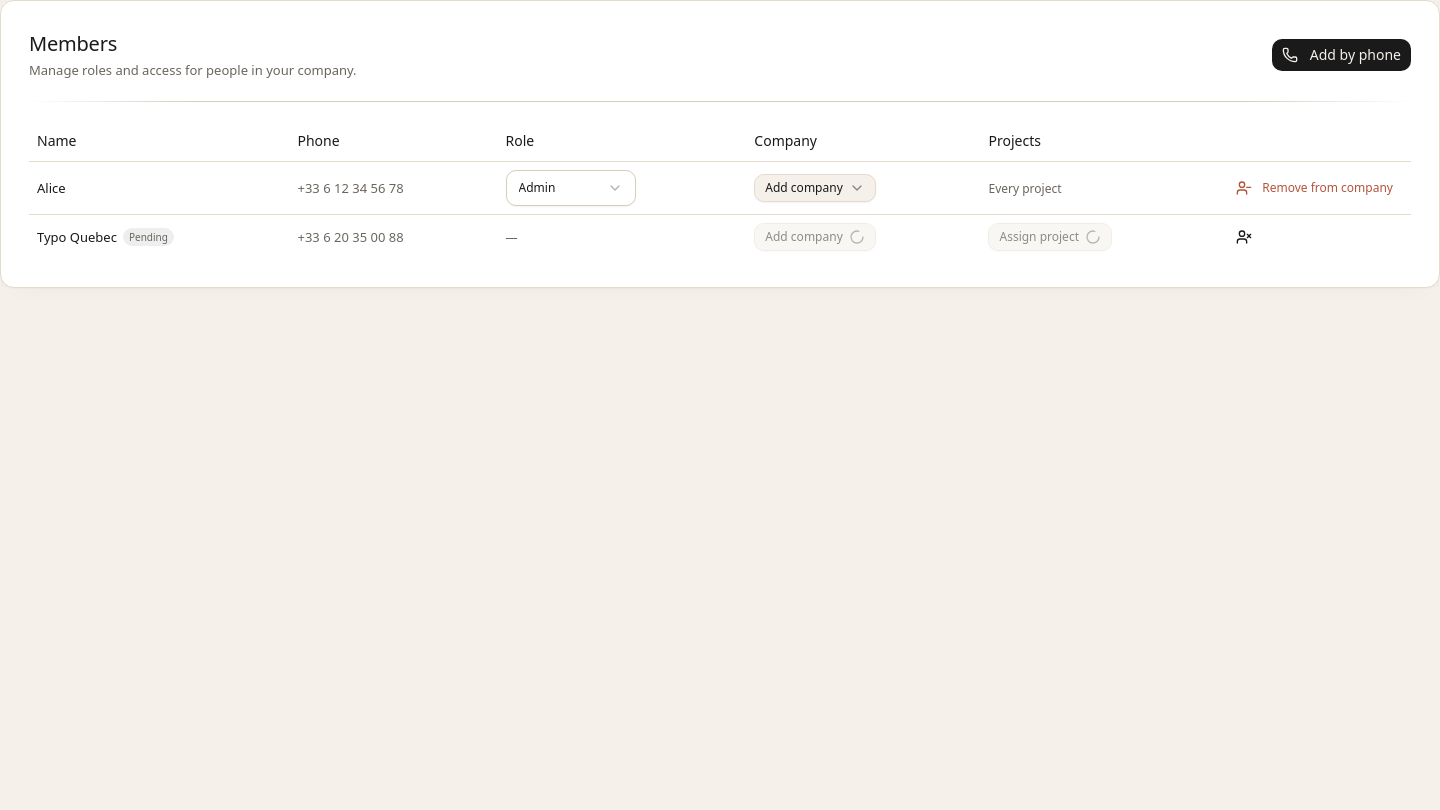
Test: CompanyMembersTable — cancel a pending invitation › keeps the invitation when the admin backs out
Expected: the text "Typo Quebec" is shown, [37,228,117,246]
Step 1. Click the button named "Cancel invitation" → (1244, 237), box [1226,223,1262,251]
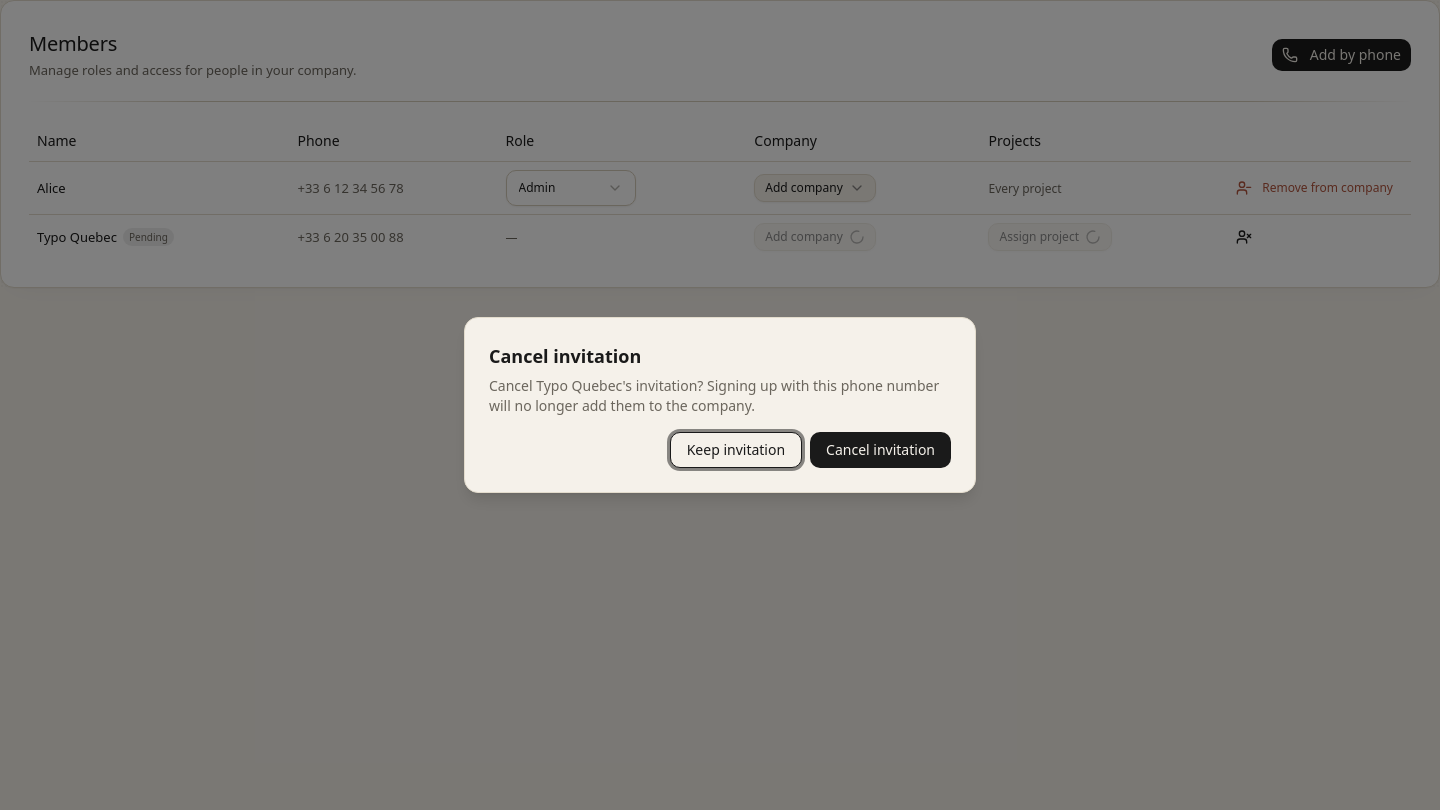
Now the dialog is shown, box [464,317,976,493]
Step 2. Click the button "Keep invitation" → (736, 450), box [670,432,802,468]
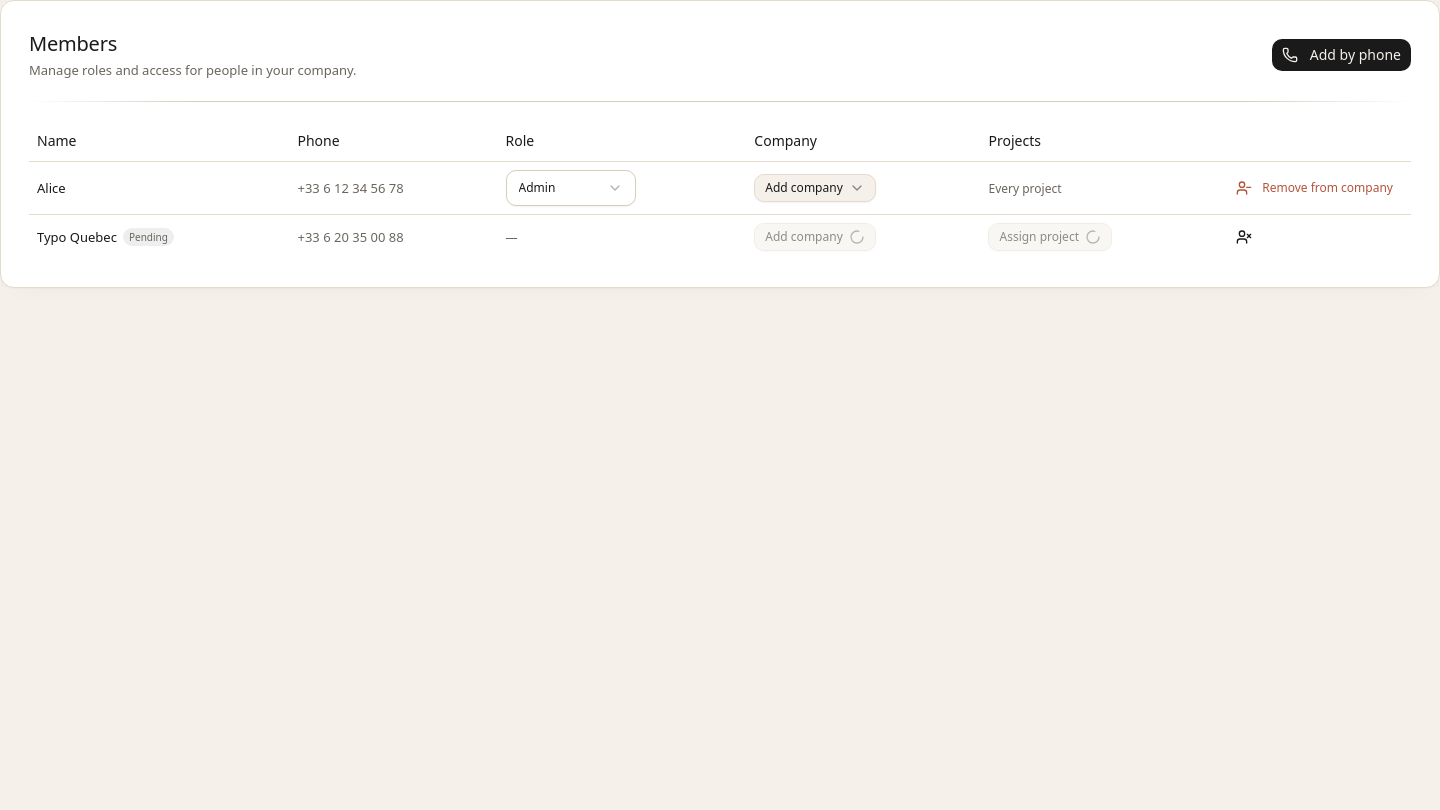
Now the dialog is gone
